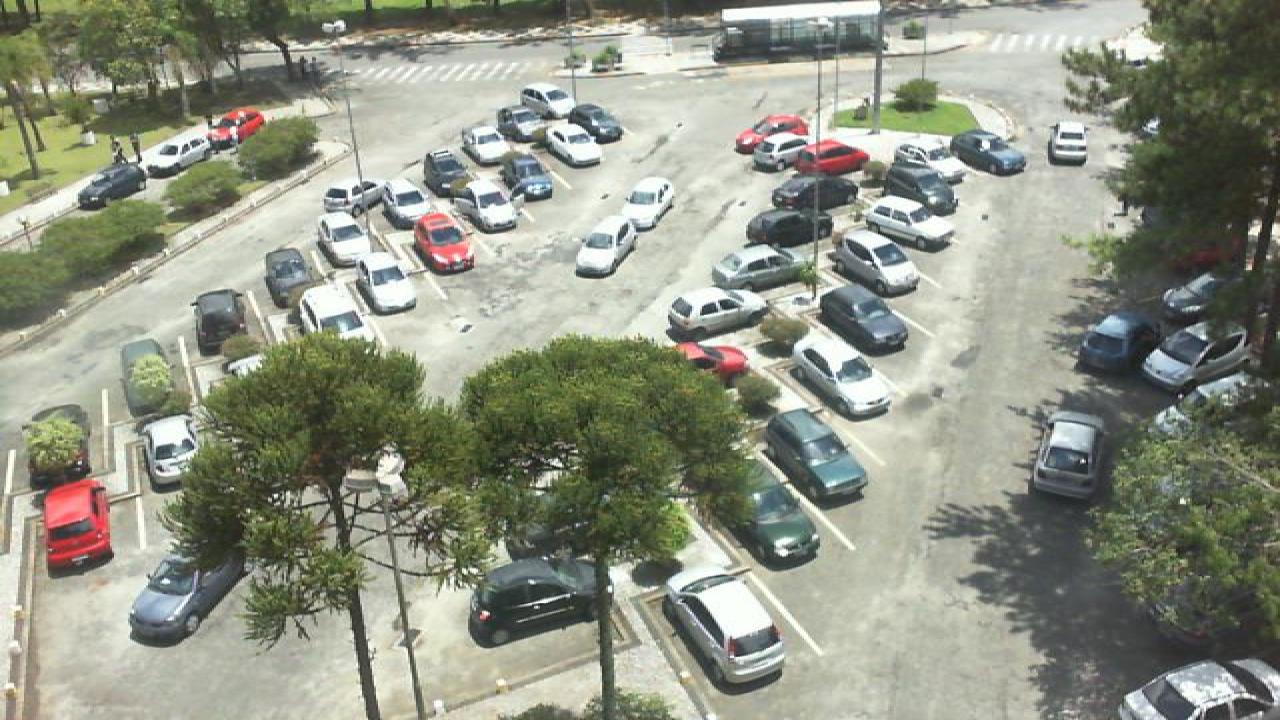Car: (664, 569, 788, 694), (468, 557, 614, 649), (130, 543, 250, 649), (762, 406, 872, 510), (1114, 655, 1280, 720), (728, 468, 824, 572), (794, 336, 894, 419), (1142, 320, 1252, 391), (1028, 408, 1104, 509), (40, 480, 116, 578), (812, 282, 908, 354), (294, 282, 382, 354), (828, 228, 920, 296), (1144, 374, 1244, 434), (664, 287, 770, 342), (138, 413, 206, 493), (1076, 311, 1156, 379), (864, 195, 956, 250), (712, 243, 814, 291), (760, 134, 870, 175), (348, 248, 418, 312), (1158, 270, 1236, 323), (188, 287, 246, 357), (882, 161, 958, 214), (412, 210, 474, 274), (574, 218, 638, 276), (948, 128, 1028, 174), (676, 340, 750, 389), (768, 172, 862, 210), (744, 208, 832, 248), (260, 246, 314, 308), (72, 165, 146, 210), (314, 209, 368, 267), (462, 174, 520, 228), (618, 176, 676, 229), (732, 114, 808, 153), (140, 138, 216, 176), (540, 122, 602, 168), (206, 107, 268, 152), (892, 140, 968, 176), (420, 148, 472, 200), (376, 177, 430, 227), (500, 152, 552, 202), (460, 122, 516, 166), (562, 102, 622, 143), (318, 180, 384, 215), (494, 105, 552, 144), (1046, 118, 1090, 164), (520, 82, 572, 119)
